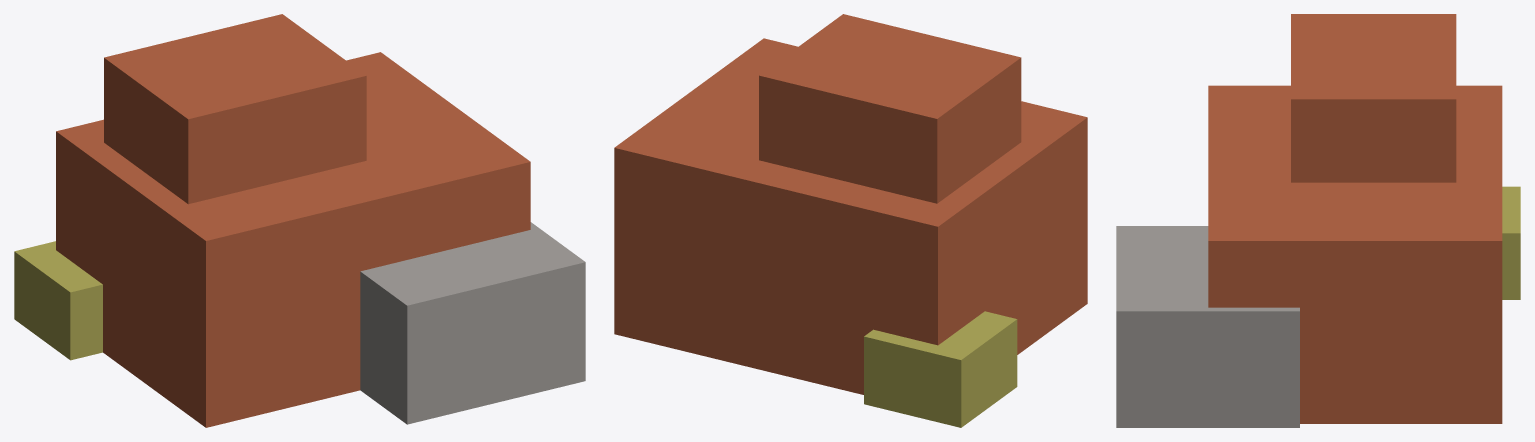
Rendered from DesertRock.glb.
The picture shows the model from 3 angles, left to right: view 1: azimuth 30°, elevation 25°; view 2: azimuth 150°, elevation 25°; view 3: azimuth 270°, elevation 25°; orthographic projection. The views are drawn at different scales.
Parts seen in each view (by area): view 1: DesertRock; view 2: DesertRock; view 3: DesertRock.
Boxes of the visible parts, x1=… form: DesertRock: x1=14, y1=14, x2=585, y2=427; DesertRock: x1=614, y1=14, x2=1087, y2=427; DesertRock: x1=1116, y1=14, x2=1520, y2=427.
Bounding box in the file's own units: 2.25 × 1.6 × 2.2.
1 material, 1 textured.
